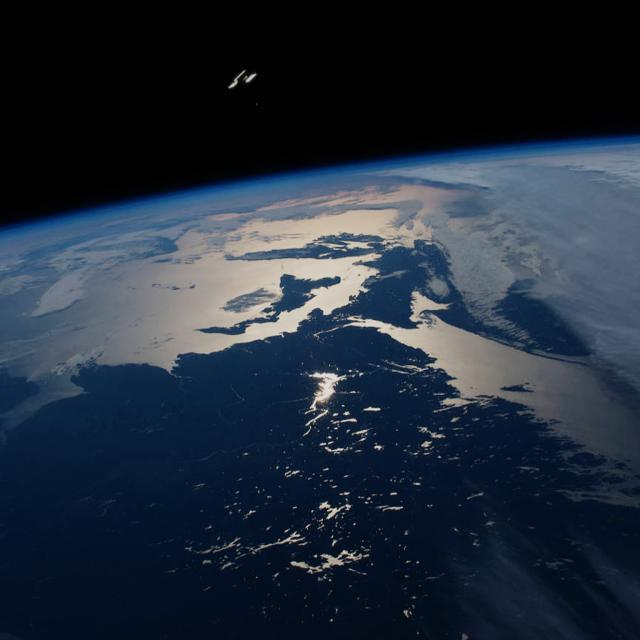satellite: (213, 57, 272, 97)
